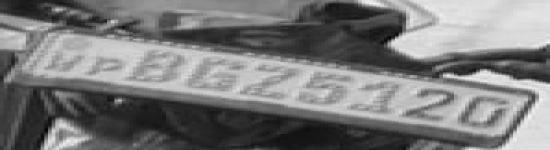0: (454, 92, 513, 127)
1: (351, 77, 405, 116)
2: (405, 83, 455, 124)
5: (300, 70, 354, 106)
B: (131, 48, 186, 84)
G: (186, 54, 246, 94)
P: (87, 55, 126, 77)
W: (39, 51, 87, 72)
Z: (246, 60, 300, 102)
